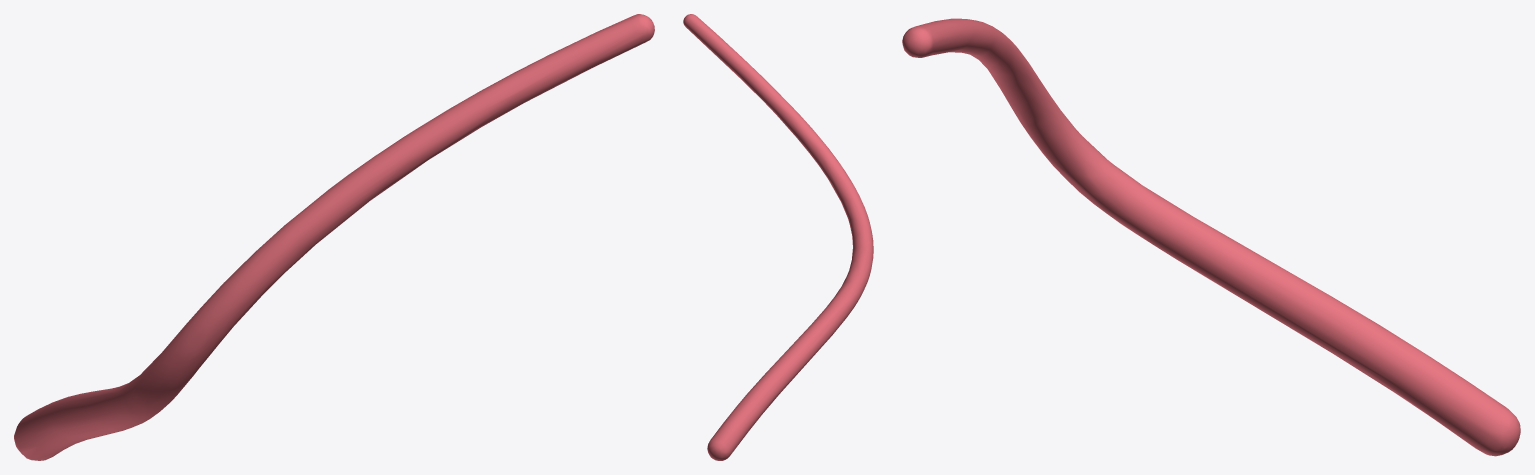
The model's file is fma77908_fj5123.glb.
The picture shows the model from 3 angles, left to right: view 1: azimuth 30°, elevation 25°; view 2: azimuth 150°, elevation 25°; view 3: azimuth 270°, elevation 25°; orthographic projection. The views are drawn at different scales.
Visible parts, largest first — view 1: FMA77908_FJ5123; view 2: FMA77908_FJ5123; view 3: FMA77908_FJ5123.
Boxes of the visible parts, <box> form: FMA77908_FJ5123: <box>14,14,654,460</box>; FMA77908_FJ5123: <box>683,14,873,460</box>; FMA77908_FJ5123: <box>902,18,1520,456</box>.
Size of the model in its own units: 0.0163 by 0.0203 by 0.0192.
